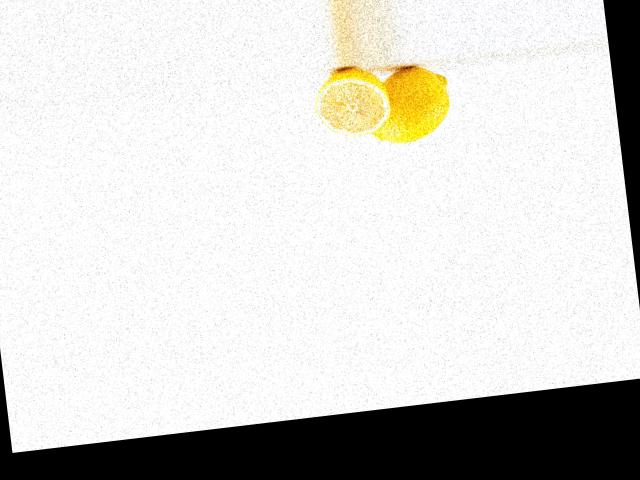lemon: (355, 55, 456, 145)
